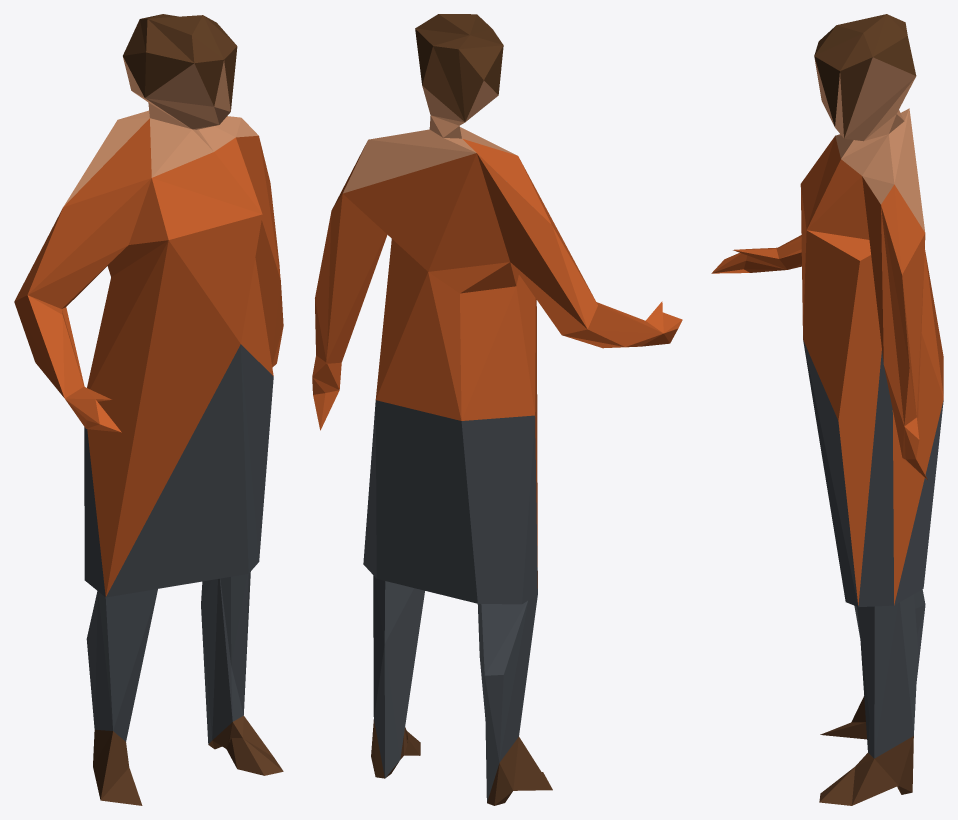
Rendered from walker-10.glb.
The picture shows the model from 3 angles, left to right: view 1: azimuth 30°, elevation 25°; view 2: azimuth 150°, elevation 25°; view 3: azimuth 270°, elevation 25°; orthographic projection.
Visible parts, largest first — view 1: Woman07; view 2: Woman07; view 3: Woman07.
Part boxes in pixels (x1,y1,x2,y2): Woman07: [14, 14, 283, 805]; Woman07: [312, 14, 682, 805]; Woman07: [711, 14, 943, 805].
Size of the model in its own units: 0.5715 by 1.45 by 0.4133.
